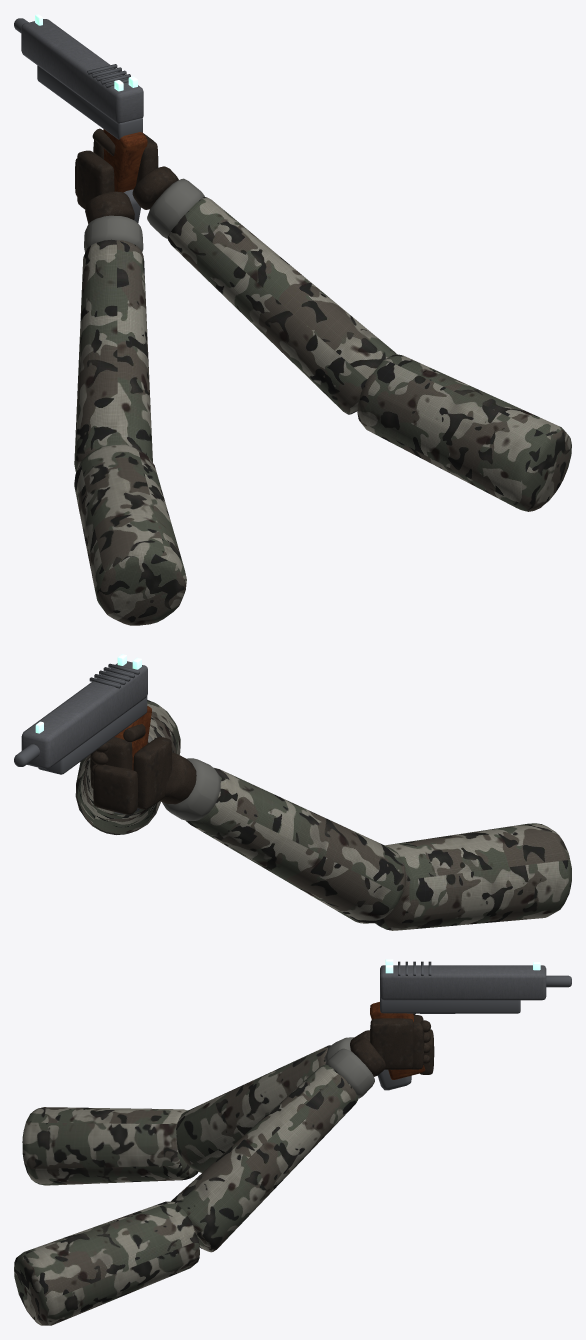
The model's file is vm_pistol.glb.
3 renders of one model, top to bottom at view 1: azimuth 30°, elevation 25°; view 2: azimuth 150°, elevation 25°; view 3: azimuth 270°, elevation 25°, orthographic. The views are drawn at different scales.
Parts seen in each view (by area): view 1: UpperArmR, ForearmR, UpperArmL, ForearmL, Slide, CuffR, Grip, Frame, PalmL, CuffL, WristR, WristL; view 2: UpperArmL, ForearmL, Slide, PalmL, FingersL, ForearmR, CuffL, Frame, UpperArmR, WristL, FingersR, Grip (+1 smaller); view 3: UpperArmR, ForearmR, UpperArmL, ForearmL, Slide, PalmR, Frame, CuffR, WristR, Grip, FingersR.
Boxes of the visible parts, x1=… form: UpperArmR: x1=357, y1=354, x2=571, y2=511; ForearmR: x1=167, y1=197, x2=396, y2=414; UpperArmL: x1=74, y1=444, x2=186, y2=625; ForearmL: x1=74, y1=239, x2=152, y2=472; Slide: x1=21, y1=19, x2=143, y2=123; CuffR: x1=147, y1=178, x2=204, y2=238; Grip: x1=103, y1=129, x2=147, y2=192; Frame: x1=37, y1=65, x2=142, y2=139; PalmL: x1=77, y1=150, x2=114, y2=209; CuffL: x1=84, y1=215, x2=143, y2=252; WristR: x1=132, y1=166, x2=178, y2=209; WristL: x1=85, y1=191, x2=134, y2=223; UpperArmL: x1=375, y1=823, x2=571, y2=930; ForearmL: x1=186, y1=768, x2=406, y2=923; Slide: x1=21, y1=661, x2=147, y2=769; PalmL: x1=133, y1=737, x2=171, y2=809; FingersL: x1=93, y1=764, x2=138, y2=814; ForearmR: x1=77, y1=760, x2=157, y2=834; CuffL: x1=162, y1=758, x2=220, y2=820; Frame: x1=38, y1=696, x2=147, y2=774; UpperArmR: x1=75, y1=700, x2=180, y2=831; WristL: x1=160, y1=752, x2=196, y2=804; FingersR: x1=90, y1=737, x2=132, y2=788; Grip: x1=114, y1=706, x2=151, y2=769; UpperArmR: x1=14, y1=1201, x2=199, y2=1325; ForearmR: x1=171, y1=1064, x2=358, y2=1252; UpperArmL: x1=22, y1=1107, x2=198, y2=1185; ForearmL: x1=176, y1=1045, x2=330, y2=1172; Slide: x1=380, y1=965, x2=546, y2=1000; PalmR: x1=370, y1=1018, x2=413, y2=1069; Frame: x1=380, y1=997, x2=520, y2=1013; CuffR: x1=325, y1=1048, x2=374, y2=1098; WristR: x1=350, y1=1038, x2=386, y2=1076; Grip: x1=370, y1=1002, x2=425, y2=1079; FingersR: x1=410, y1=1015, x2=424, y2=1069.
Bounding box in the file's own units: 0.7165 × 0.5117 × 0.8718.
Materials: 7 (4 with a texture image).
